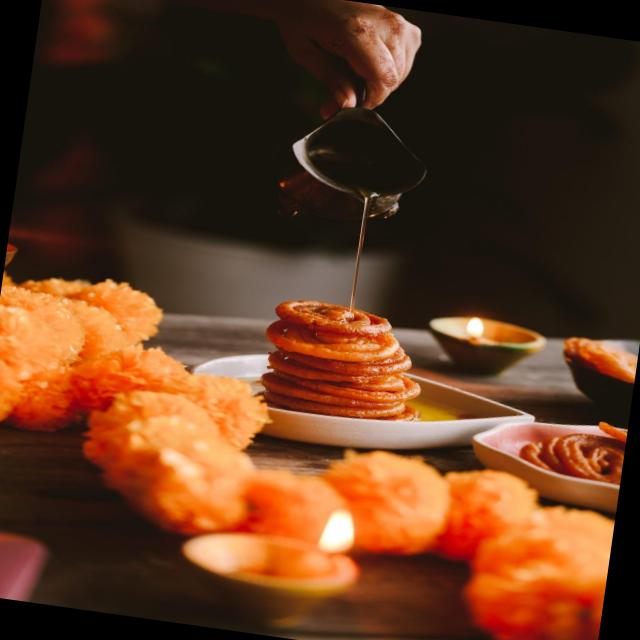jalebi: (242, 258, 419, 445)
